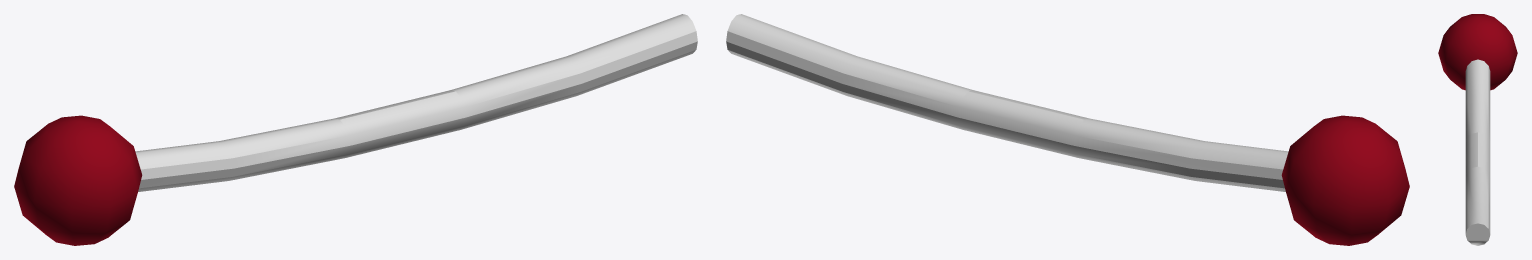
The model's file is Korumalık.fbx.
3 renders of one model, left to right at view 1: azimuth 30°, elevation 25°; view 2: azimuth 150°, elevation 25°; view 3: azimuth 270°, elevation 25°, orthographic. The views are drawn at different scales.
Parts seen in each view (by area): view 1: Cylinder, Sphere; view 2: Cylinder, Sphere; view 3: Cylinder, Sphere.
Part boxes in pixels (left/top/right/bottom): Cylinder: left=135, top=14, right=697, bottom=191; Sphere: left=14, top=115, right=142, bottom=245; Cylinder: left=726, top=14, right=1288, bottom=191; Sphere: left=1281, top=115, right=1409, bottom=245; Cylinder: left=1465, top=59, right=1490, bottom=245; Sphere: left=1438, top=14, right=1517, bottom=90.
Bounding box in the file's own units: 1029 × 176 × 176.
